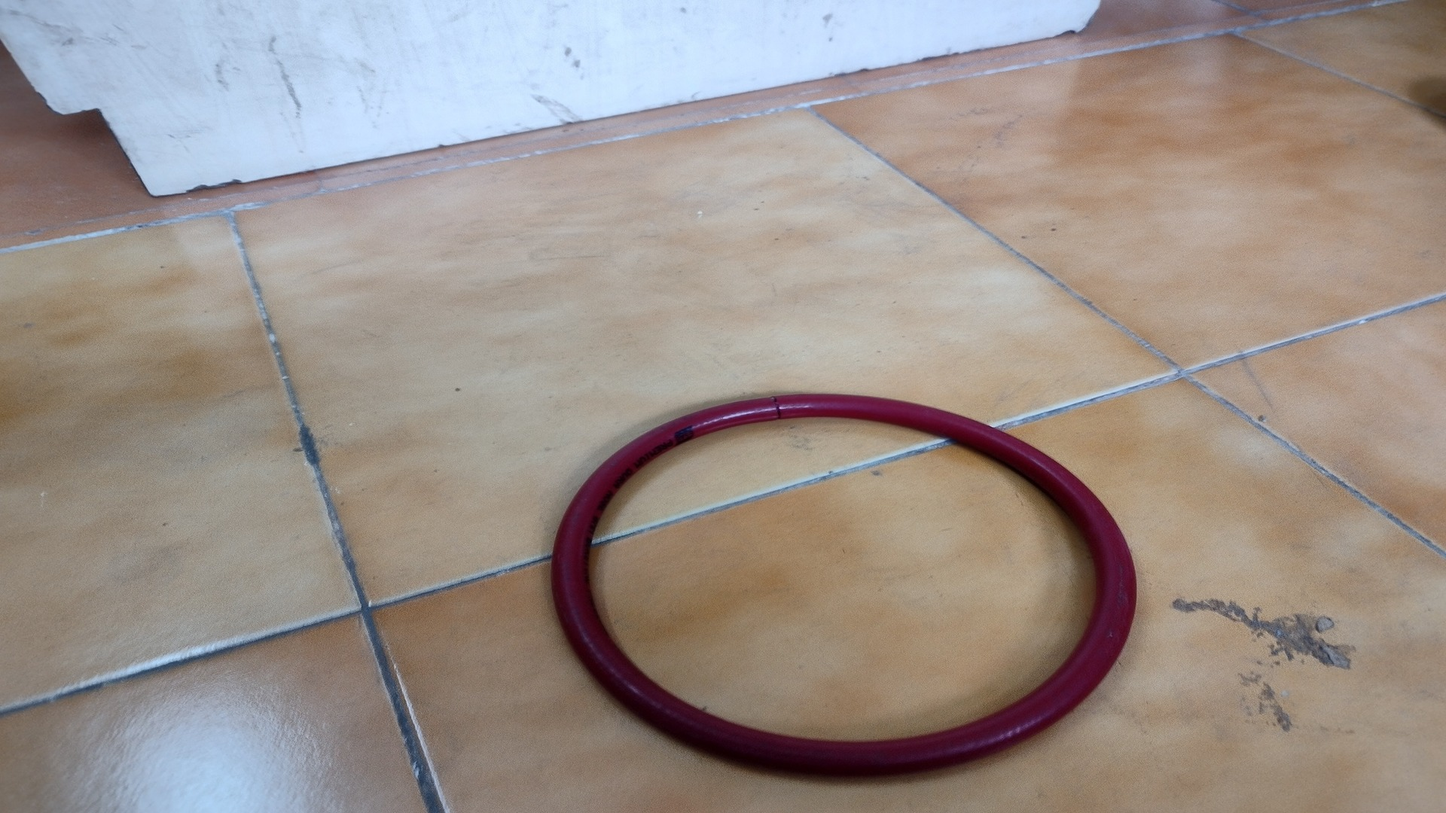Red ring: (552, 396, 1138, 773)
